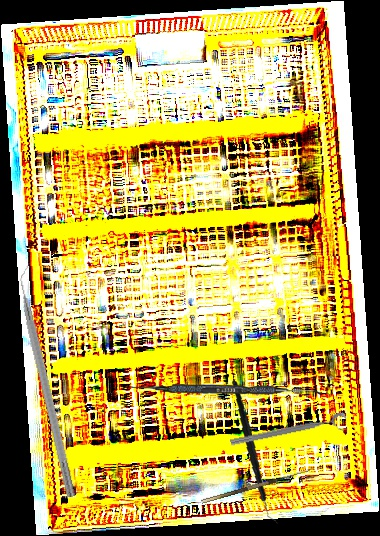Chopper: (13, 262, 88, 498), (217, 380, 294, 525)
Fixation Ring: (229, 411, 349, 456)
Hook Surgical: (199, 463, 311, 504)
Spatula Surgical: (131, 384, 322, 395)
